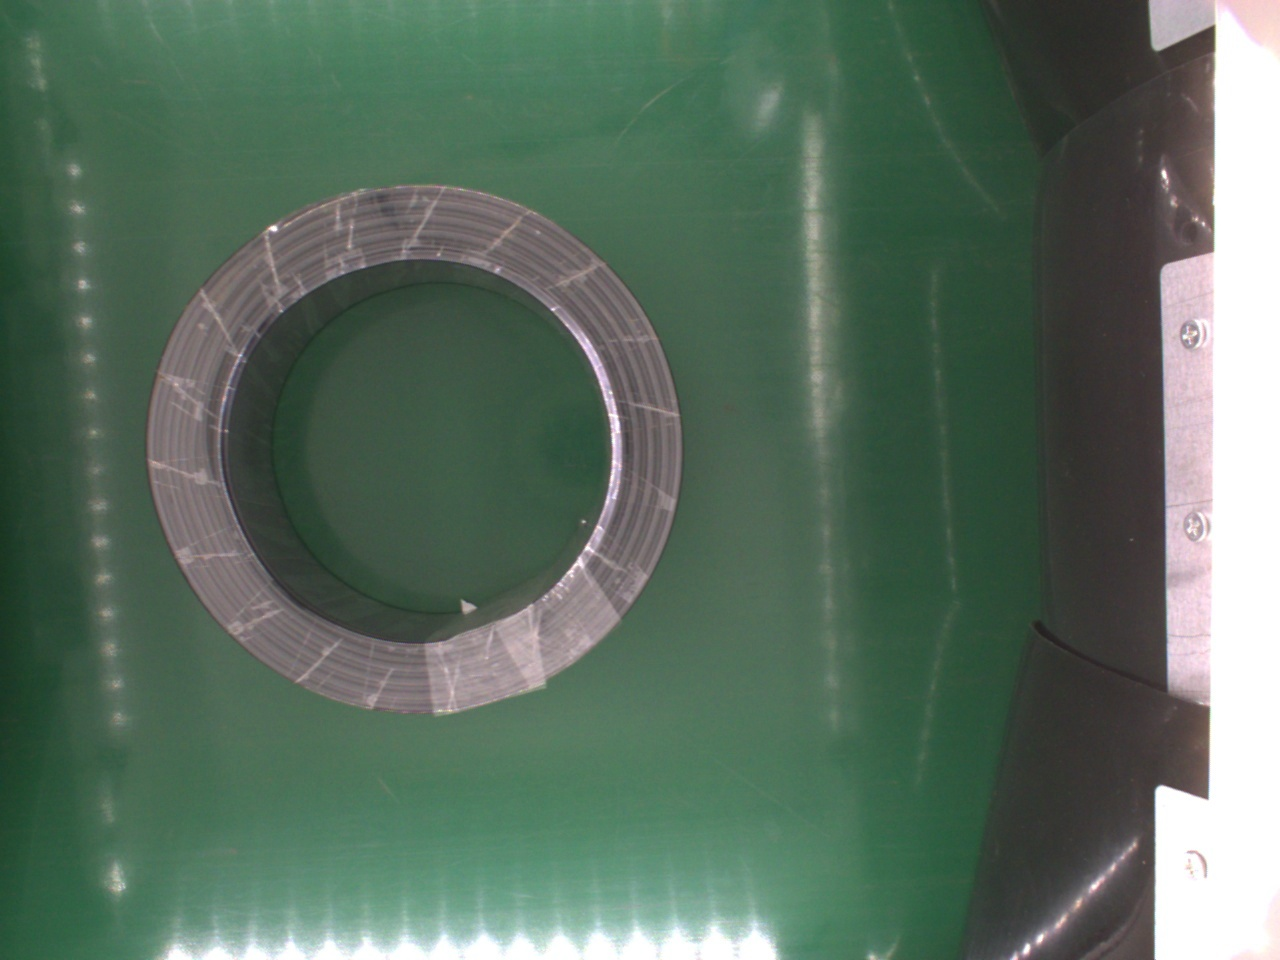black: (142, 179, 685, 720)
